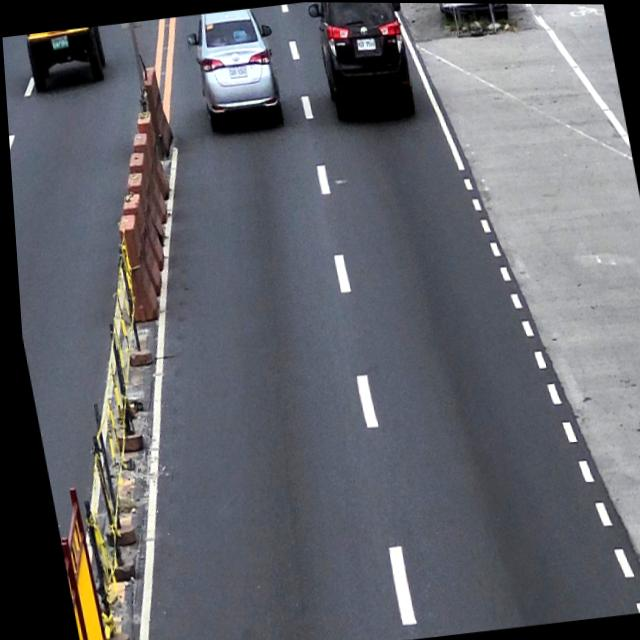Car: (181, 5, 290, 136), (307, 2, 419, 123)
License-Plate: (355, 36, 375, 51), (226, 64, 247, 78)
